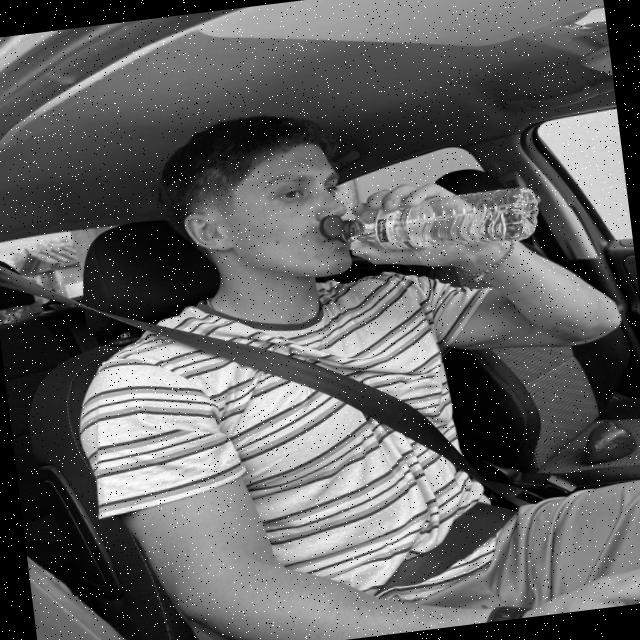Eating: (338, 170, 515, 286)
Seatbelt: (0, 195, 529, 570)
